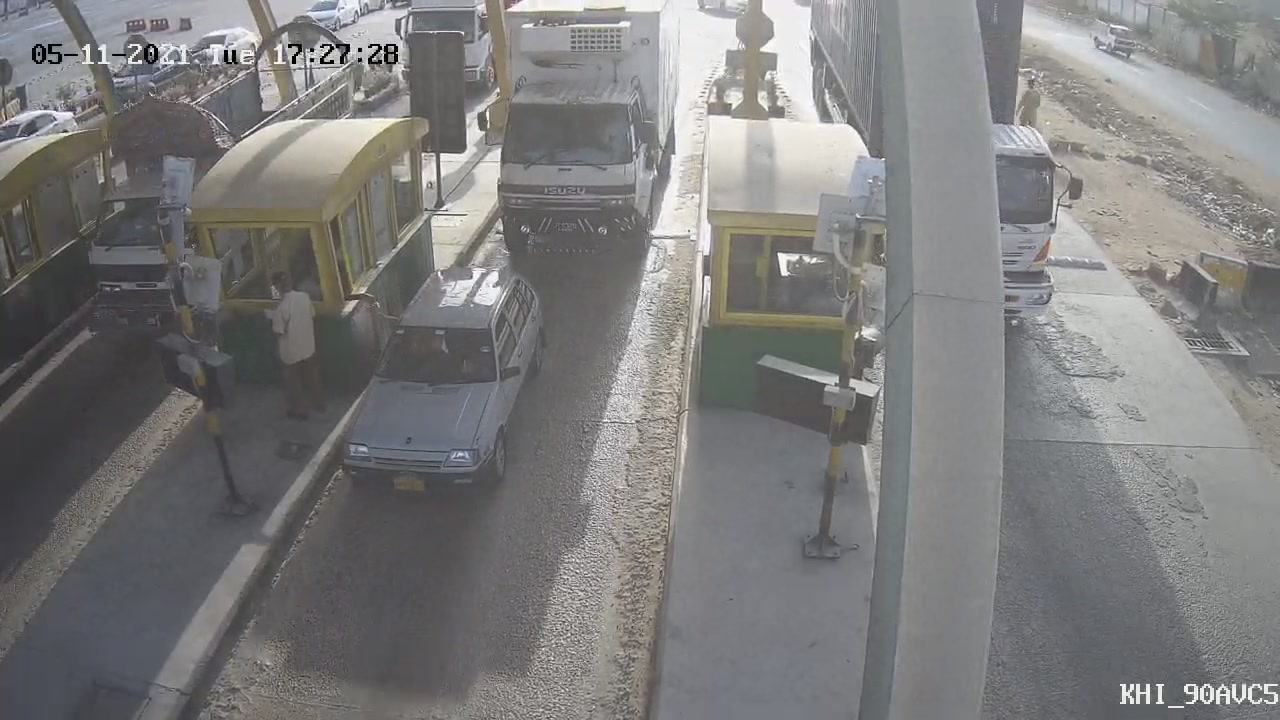F1: (317, 244, 568, 520)
